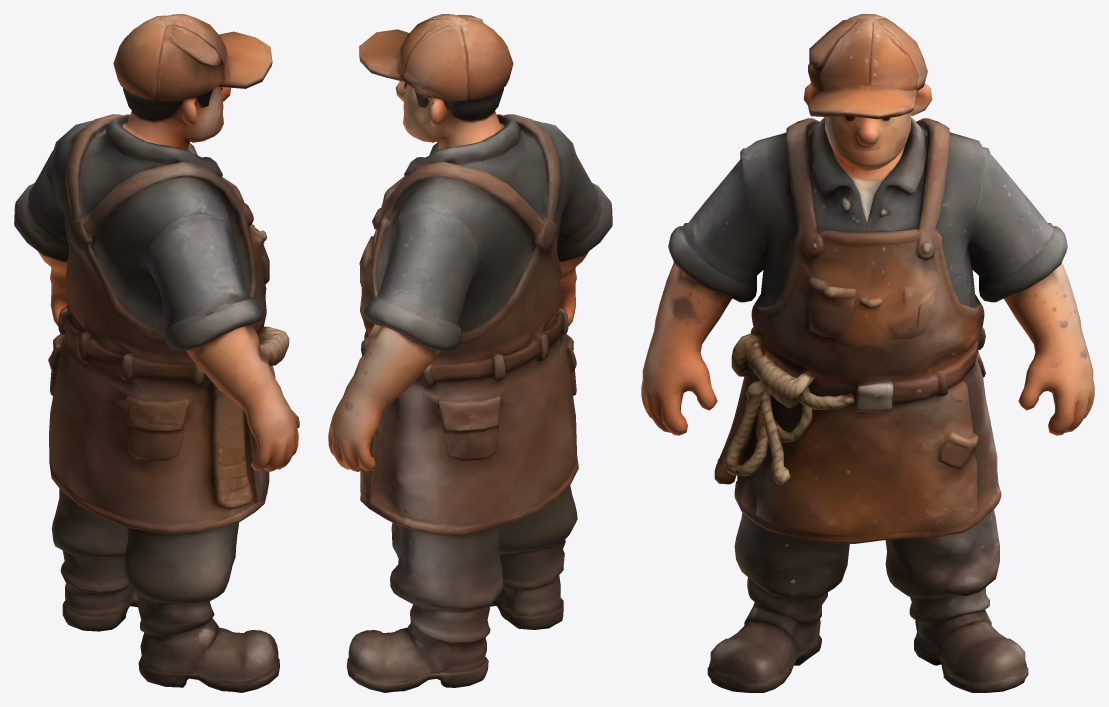
The picture shows the model from 3 angles, left to right: view 1: azimuth 30°, elevation 25°; view 2: azimuth 150°, elevation 25°; view 3: azimuth 270°, elevation 25°; orthographic projection. The views are drawn at different scales.
Visible parts, largest first — view 1: tripo_node_8395b1ec-3e8c-4d65-89c9-2b7b0dd28238; view 2: tripo_node_8395b1ec-3e8c-4d65-89c9-2b7b0dd28238; view 3: tripo_node_8395b1ec-3e8c-4d65-89c9-2b7b0dd28238.
Part boxes in pixels (x1,y1,x2,y2): tripo_node_8395b1ec-3e8c-4d65-89c9-2b7b0dd28238: (14, 14, 299, 692); tripo_node_8395b1ec-3e8c-4d65-89c9-2b7b0dd28238: (328, 14, 612, 692); tripo_node_8395b1ec-3e8c-4d65-89c9-2b7b0dd28238: (641, 14, 1094, 692).
Bounding box in the file's own units: 0.319 × 1 × 0.6282.
Materials: 1 (1 with a texture image).
